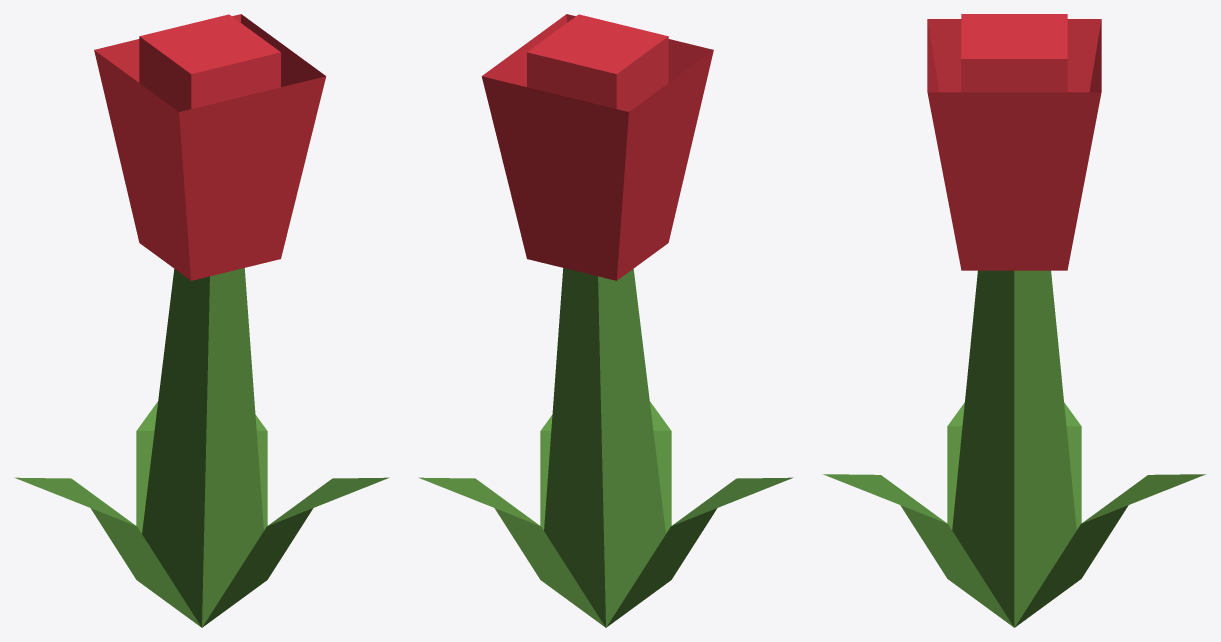
File: flower-1.glb
3 renders of one model, left to right at view 1: azimuth 30°, elevation 25°; view 2: azimuth 150°, elevation 25°; view 3: azimuth 270°, elevation 25°, orthographic. The views are drawn at different scales.
Visible parts, largest first — view 1: flower_redA; view 2: flower_redA; view 3: flower_redA.
Part boxes in pixels (x1,y1,x2,y2): flower_redA: (14,14,389,627); flower_redA: (418,14,793,627); flower_redA: (822,14,1206,627).
Size of the model in its own units: 0.1632 by 0.3 by 0.1857.
